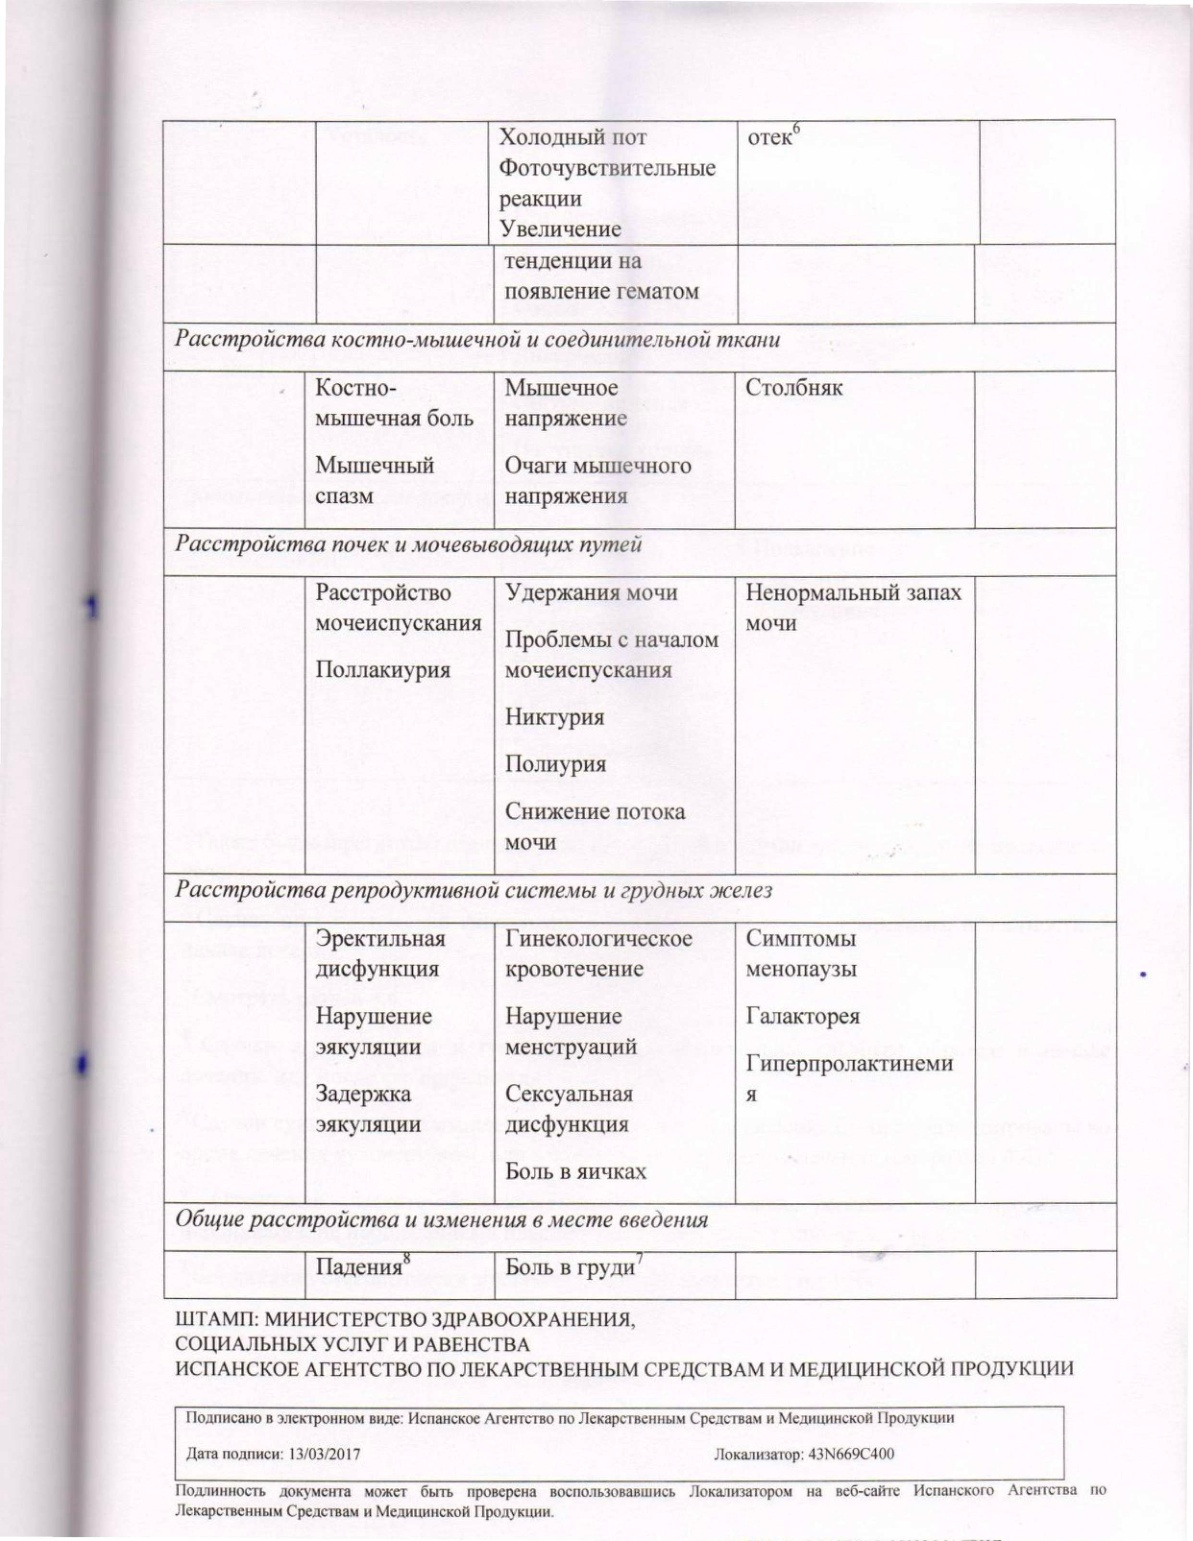merged_cells: (159, 116, 1119, 1301)
partial_lined_merged_cells: (174, 1405, 1067, 1483)
